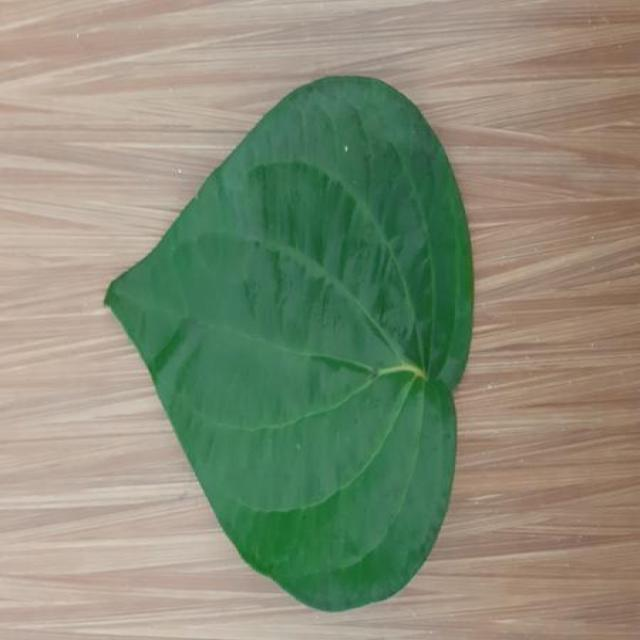betel: (105, 76, 472, 610)
